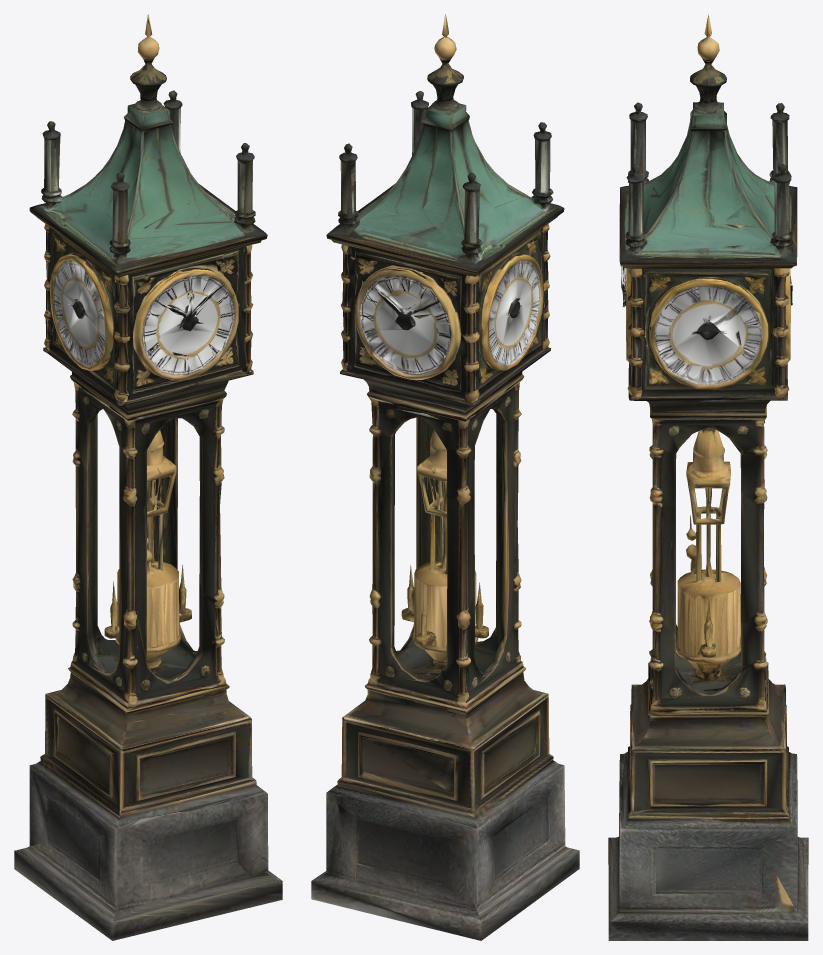
Rendered from clock.glb.
The picture shows the model from 3 angles, left to right: view 1: azimuth 30°, elevation 25°; view 2: azimuth 150°, elevation 25°; view 3: azimuth 270°, elevation 25°; orthographic projection.
Visible parts, largest first — view 1: Mesh_0; view 2: Mesh_0; view 3: Mesh_0.
Part boxes in pixels (x1=…): Mesh_0: x1=14, y1=14, x2=282, y2=940; Mesh_0: x1=311, y1=14, x2=579, y2=940; Mesh_0: x1=608, y1=14, x2=808, y2=940.
Bounding box in the file's own units: 0.3892 × 1.9 × 0.389.
Materials: 1 (1 with a texture image).
